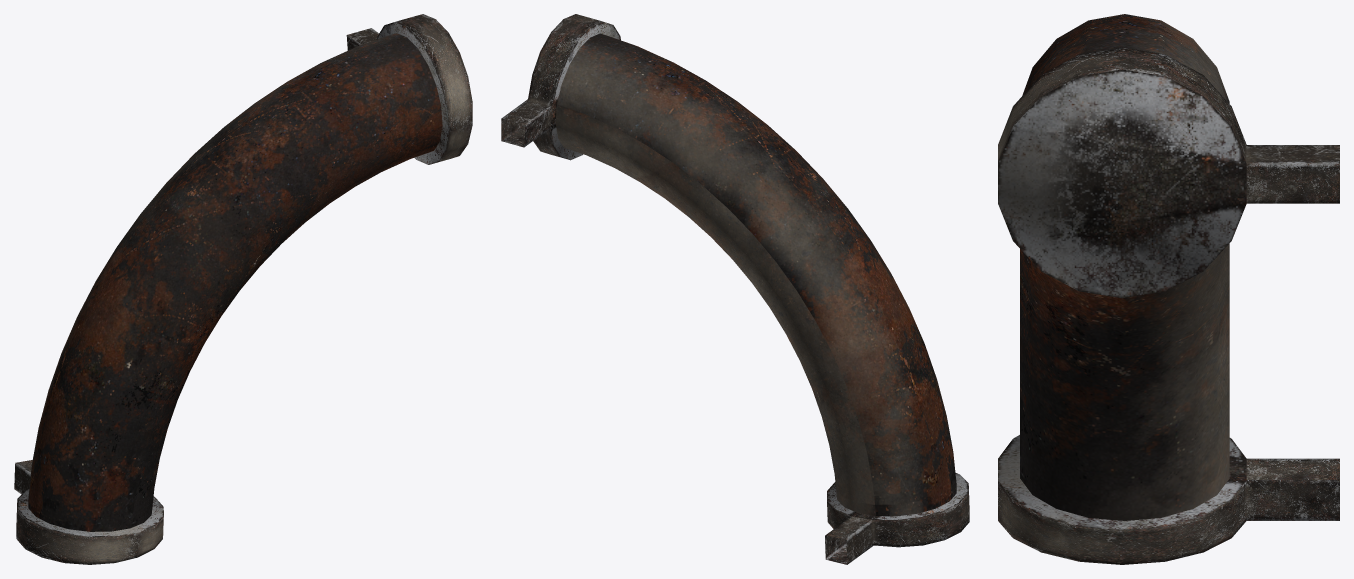
Rendered from SM_PipeBend90Small.FBX.
3 views of the same model, side by side, from view 1: azimuth 30°, elevation 25°; view 2: azimuth 150°, elevation 25°; view 3: azimuth 270°, elevation 25° (orthographic). The views are drawn at different scales.
Visible parts, largest first — view 1: SM_PipeBend90Small; view 2: SM_PipeBend90Small; view 3: SM_PipeBend90Small.
Part boxes in pixels (x1,y1,x2,y2): SM_PipeBend90Small: (14, 14, 472, 564); SM_PipeBend90Small: (501, 14, 969, 564); SM_PipeBend90Small: (998, 14, 1339, 564).
Bounding box in the file's own units: 75.52 × 32.13 × 75.52.
